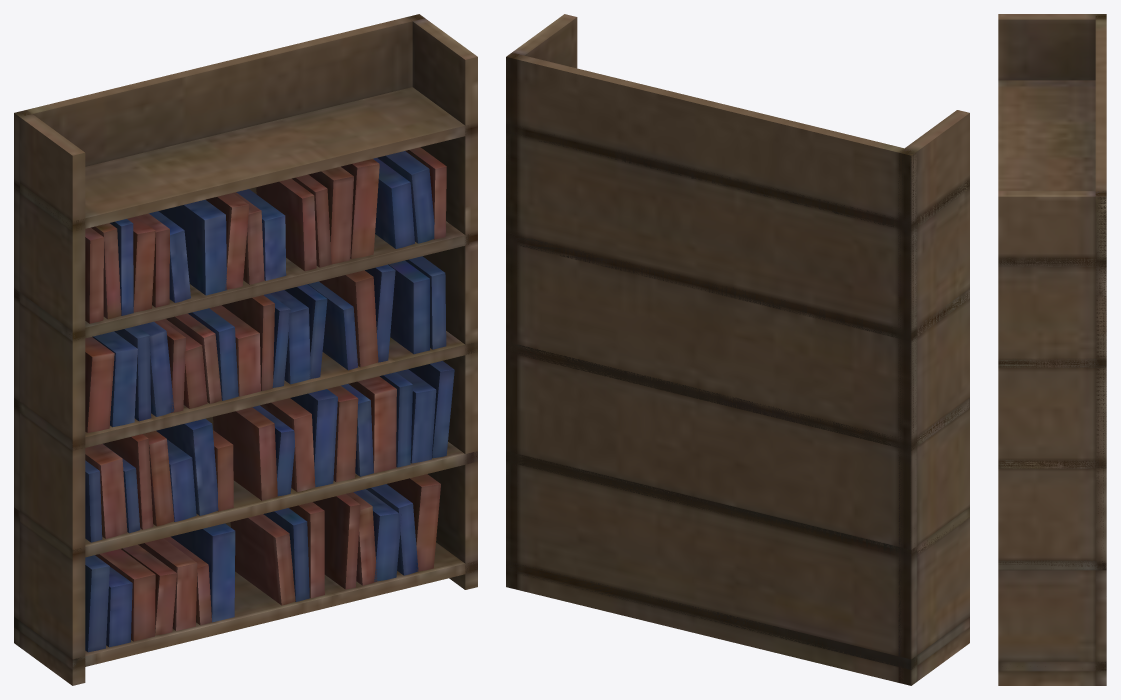
File: estante.glb
3 views of the same model, side by side, from view 1: azimuth 30°, elevation 25°; view 2: azimuth 150°, elevation 25°; view 3: azimuth 270°, elevation 25° (orthographic). The views are drawn at different scales.
Visible parts, largest first — view 1: estante; view 2: estante; view 3: estante.
Boxes of the visible parts, x1,y1,x2,y2 form: estante: (14, 14, 477, 685); estante: (506, 14, 969, 685); estante: (998, 14, 1106, 685).
Size of the model in its own units: 1.6 by 2 by 0.4.
Materials: 1 (1 with a texture image).
